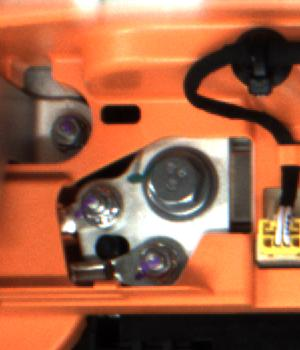nut_b: (142, 141, 233, 224)
screw_s: (134, 243, 177, 284), (49, 118, 89, 155), (81, 189, 118, 226)
